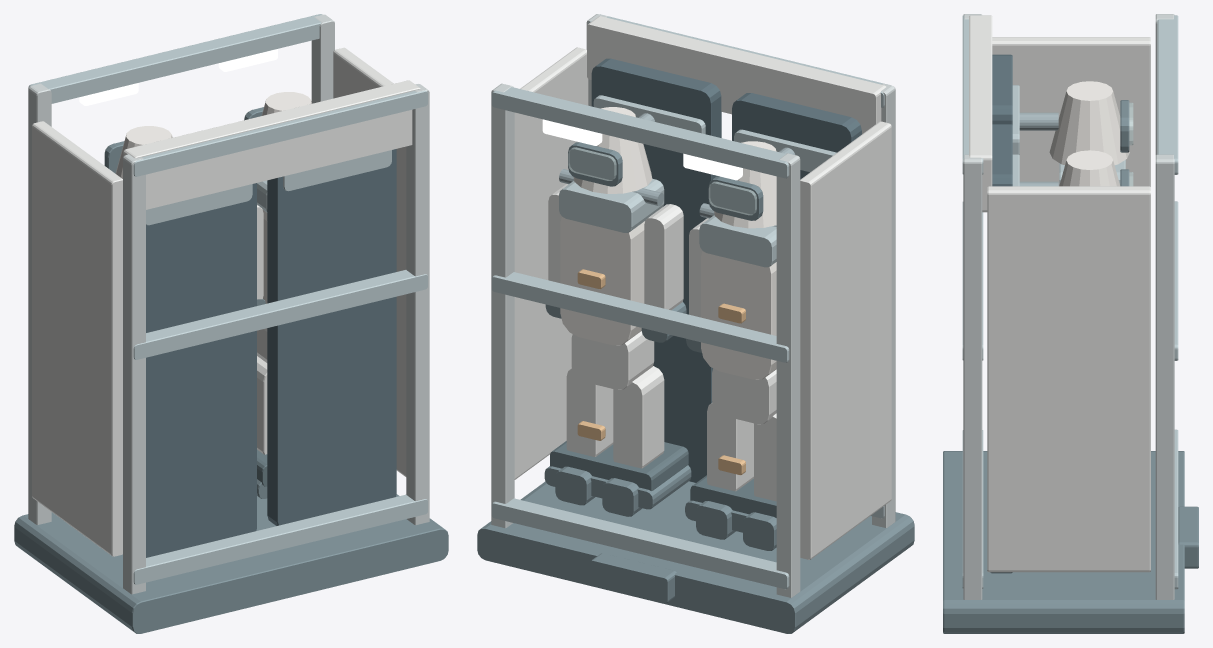
The model's file is suit_rack.glb.
The picture shows the model from 3 angles, left to right: view 1: azimuth 30°, elevation 25°; view 2: azimuth 150°, elevation 25°; view 3: azimuth 270°, elevation 25°; orthographic projection.
Parts seen in each view (by area): view 1: Fixed__recess, Fixed__shell, Fixed__aluminium, Fixed__silver, Fixed__graphite, suit_2_service__shell, Fixed__light, suit_2_service__ivory, suit_1_service__ivory; view 2: Fixed__shell, Fixed__graphite, Fixed__aluminium, Fixed__silver, Fixed__recess, suit_2_service__shell, suit_2_service__ivory, suit_1_service__shell, suit_1_service__ivory, suit_2_service__graphite, Fixed__rubber, suit_1_service__graphite (+8 smaller); view 3: Fixed__shell, Fixed__graphite, Fixed__silver, Fixed__aluminium, suit_1_service__ivory, Fixed__recess, suit_2_service__ivory, suit_1_service__steel, suit_1_service__graphite.
Part boxes in pixels (box(x1,y1,x2,y2)): Fixed__recess: box(146, 149, 396, 557); Fixed__shell: box(32, 47, 420, 556); Fixed__aluminium: box(28, 14, 427, 584); Fixed__silver: box(28, 14, 429, 594); Fixed__graphite: box(14, 479, 448, 633); suit_2_service__shell: box(257, 205, 267, 454); Fixed__light: box(79, 49, 277, 105); suit_2_service__ivory: box(261, 92, 311, 303); suit_1_service__ivory: box(115, 126, 172, 178); Fixed__shell: box(514, 16, 891, 559); Fixed__graphite: box(477, 465, 914, 633); Fixed__aluminium: box(491, 14, 891, 589); Fixed__silver: box(491, 14, 895, 597); Fixed__recess: box(591, 58, 861, 482); suit_2_service__shell: box(548, 184, 683, 468); suit_2_service__ivory: box(560, 107, 652, 345); suit_1_service__shell: box(689, 218, 776, 501); suit_1_service__ivory: box(701, 141, 776, 379); suit_2_service__graphite: box(545, 142, 686, 516); Fixed__rubber: box(550, 441, 776, 517); suit_1_service__graphite: box(686, 176, 776, 550); Fixed__shell: box(969, 15, 1150, 572); Fixed__graphite: box(943, 451, 1198, 633); Fixed__silver: box(963, 14, 1174, 599); Fixed__aluminium: box(962, 15, 1178, 589); suit_1_service__ivory: box(1049, 81, 1129, 165); Fixed__recess: box(990, 54, 1012, 573); suit_2_service__ivory: box(1059, 150, 1120, 186); suit_1_service__steel: box(1019, 112, 1058, 130); suit_1_service__graphite: box(1120, 100, 1129, 152).
Bounding box in the file's own units: 1.43 × 2.01 × 0.985.
